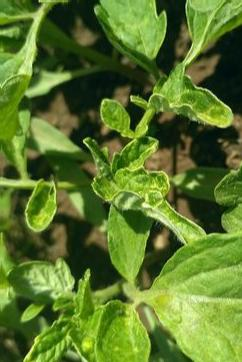Tomato leaf mosaic virus: (83, 134, 206, 243), (149, 232, 242, 362), (97, 186, 168, 280), (128, 75, 242, 133), (96, 0, 169, 81), (92, 296, 156, 362), (7, 255, 75, 306), (16, 176, 66, 237), (23, 315, 83, 362)
